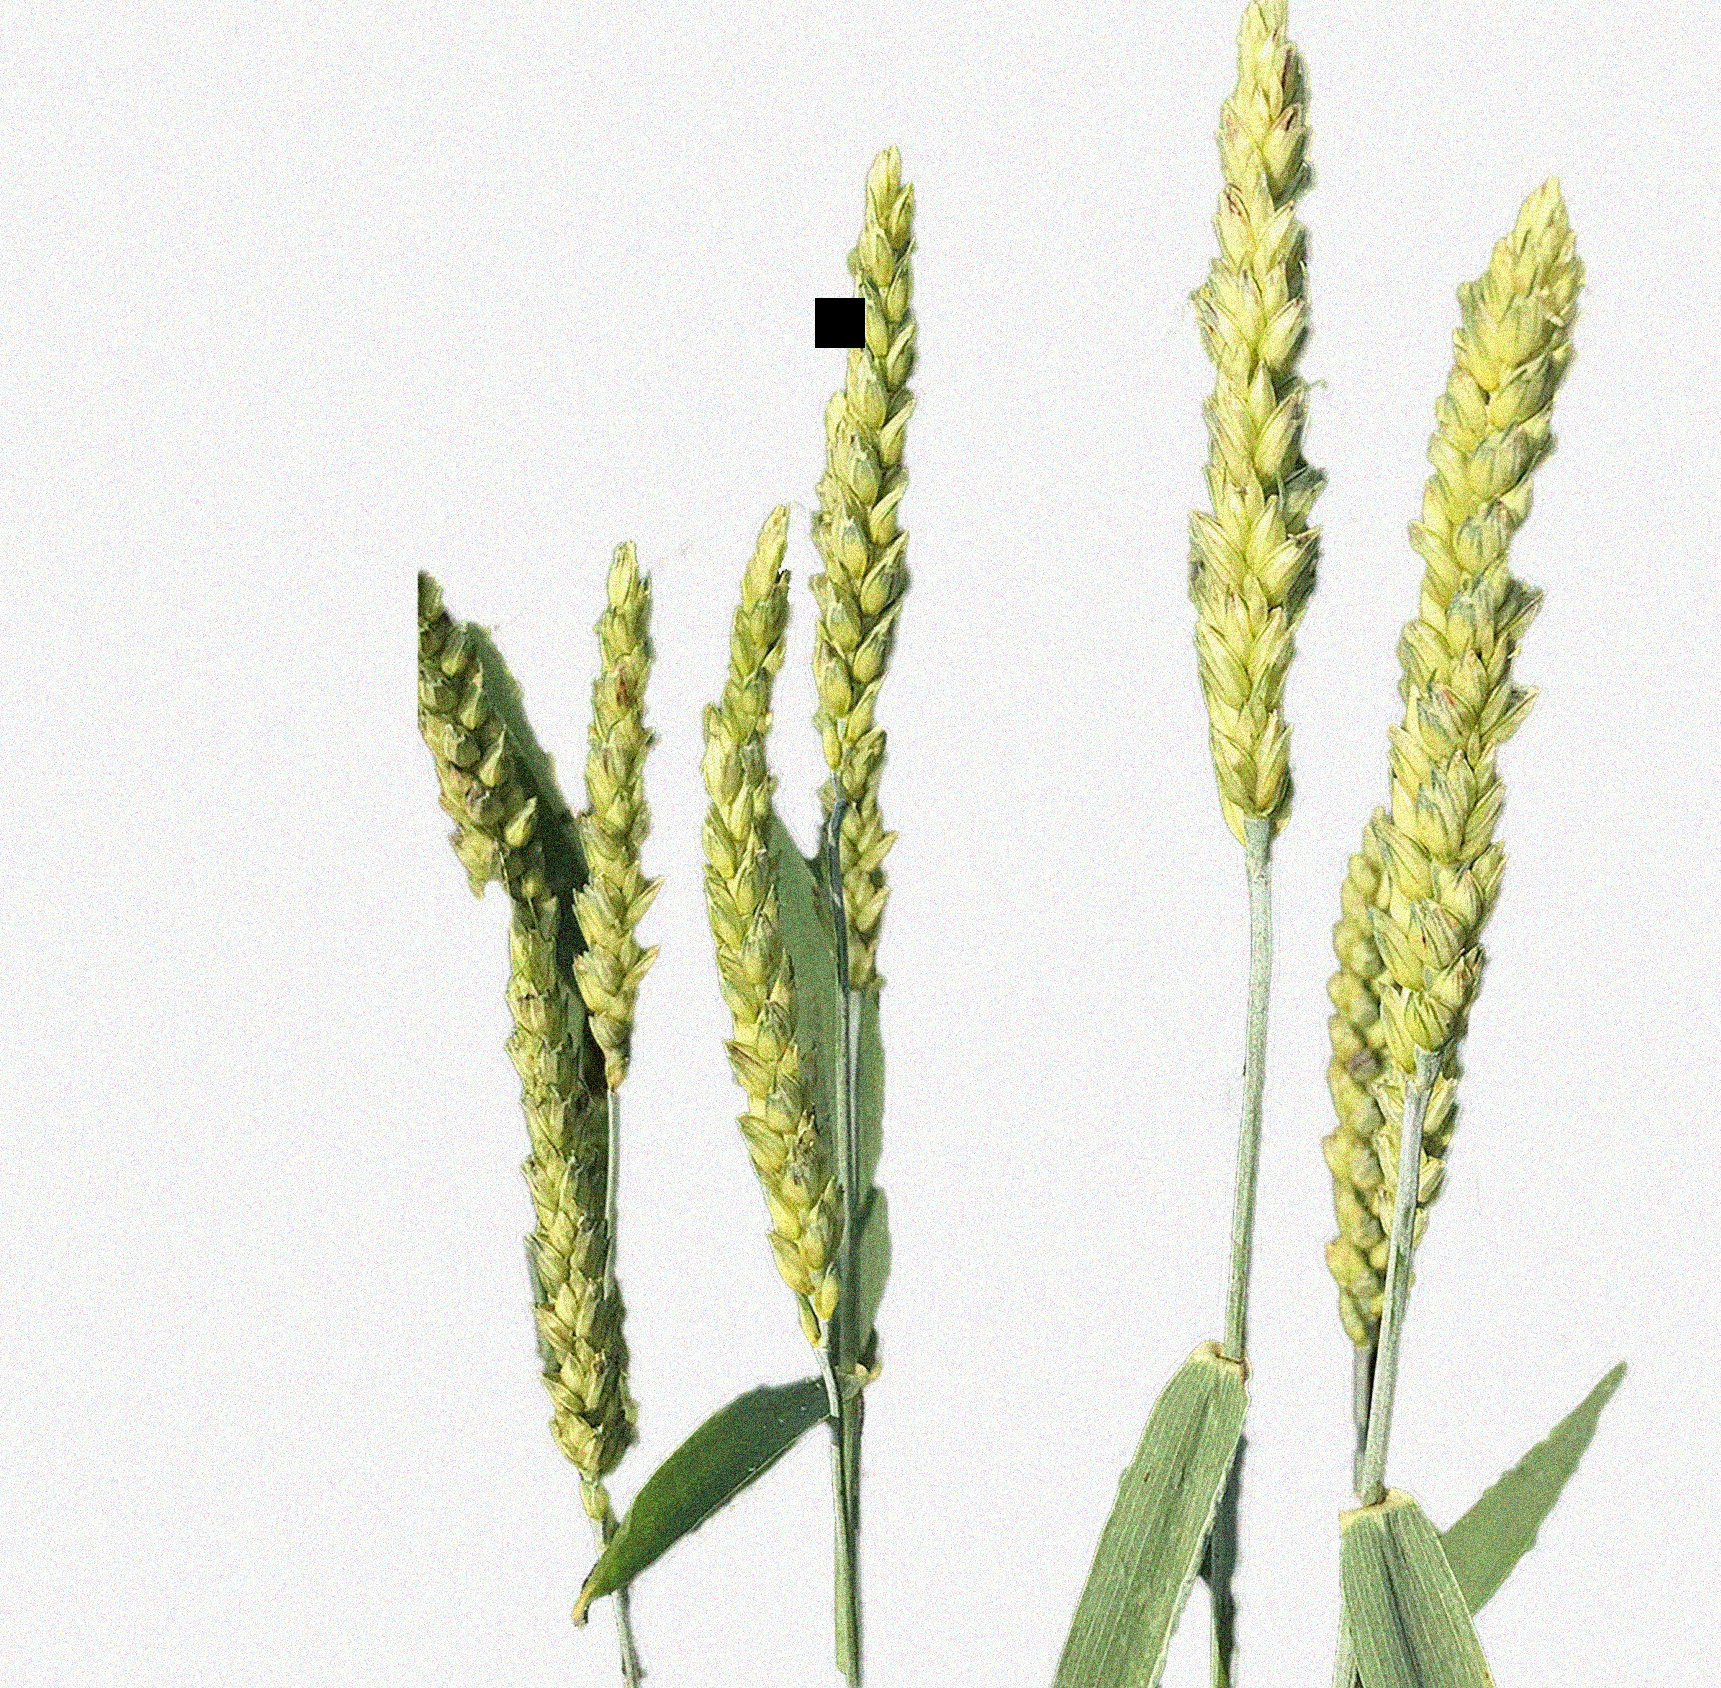wheat: (1311, 158, 1569, 1554), (694, 114, 943, 1470), (416, 498, 665, 1506), (1113, 6, 1339, 1054)
